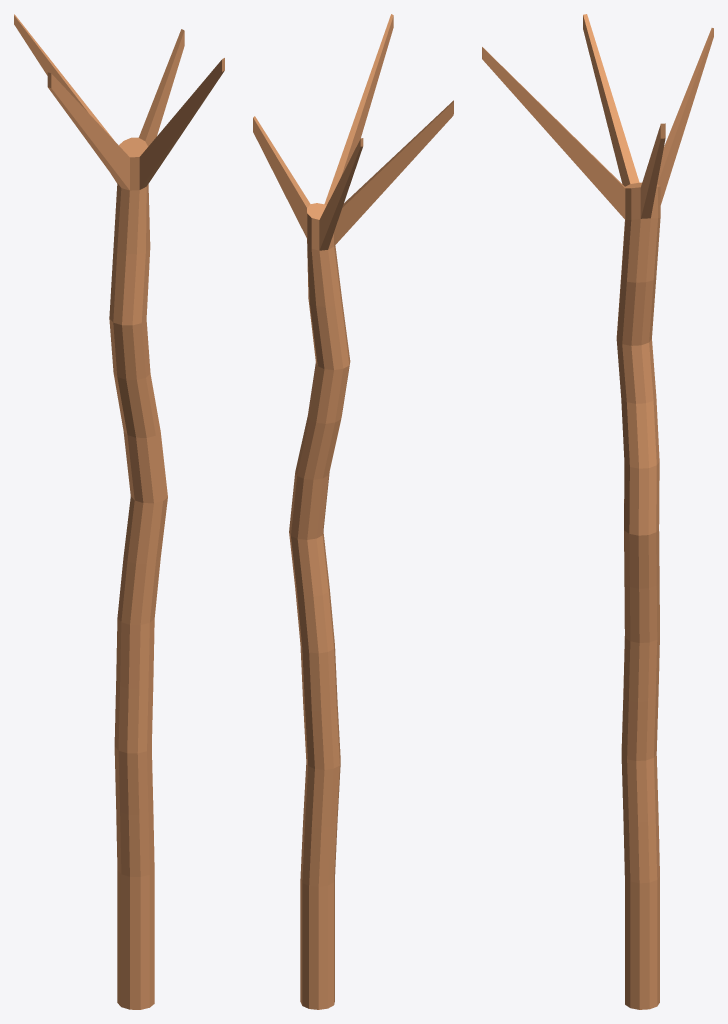
File: wand.fbx
The picture shows the model from 3 angles, left to right: view 1: azimuth 30°, elevation 25°; view 2: azimuth 150°, elevation 25°; view 3: azimuth 270°, elevation 25°; orthographic projection. The views are drawn at different scales.
Parts seen in each view (by area): view 1: wand; view 2: wand; view 3: wand.
Part boxes in pixels (x1,y1,x2,y2): wand: (14, 14, 224, 1009); wand: (253, 14, 453, 1009); wand: (482, 14, 713, 1009).
Bounding box in the file's own units: 14.41 × 78.79 × 17.29.
